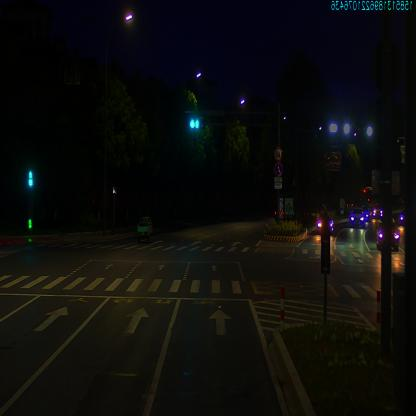traffic-light: (188, 117, 204, 131)
